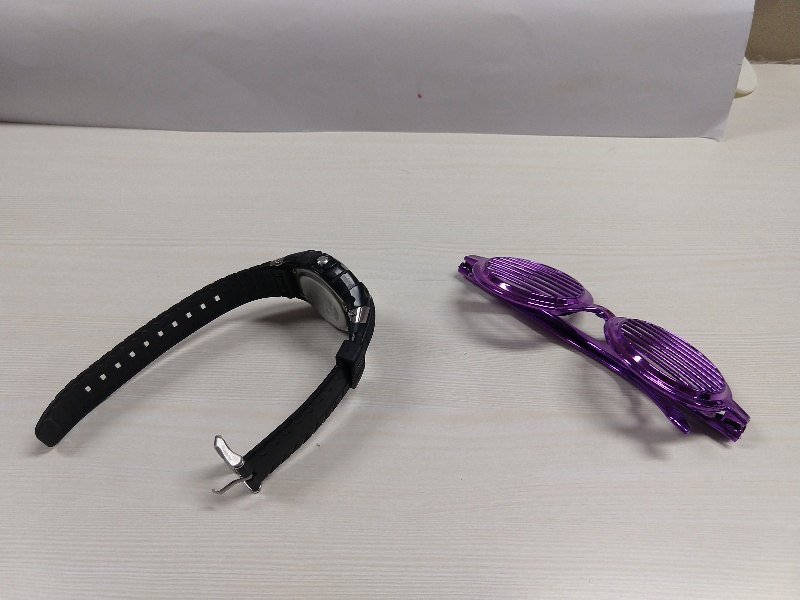shades: (459, 246, 760, 453)
watch: (35, 248, 397, 501)
